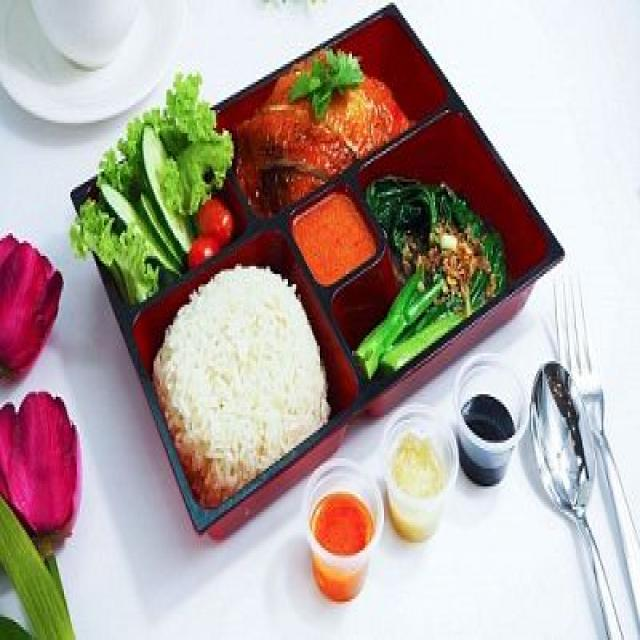Chicken: (235, 51, 410, 212)
Fruits: (187, 197, 234, 266)
Green veg: (70, 72, 234, 305), (355, 184, 504, 376)
Rice: (154, 269, 328, 504)
